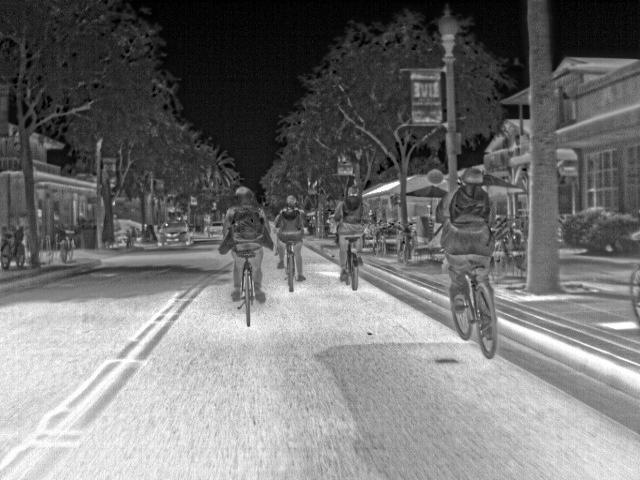car: (156, 218, 192, 246), (203, 221, 224, 238)
person: (440, 165, 495, 311), (226, 186, 267, 302), (334, 184, 369, 281), (276, 194, 307, 282)
